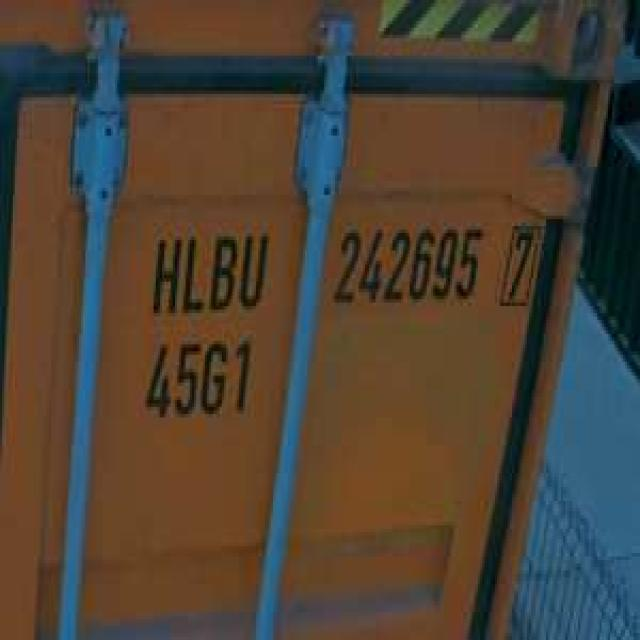dv: (495, 220, 550, 316)
owner: (142, 218, 273, 316)
serial: (332, 222, 484, 312)
size: (134, 328, 258, 424)
